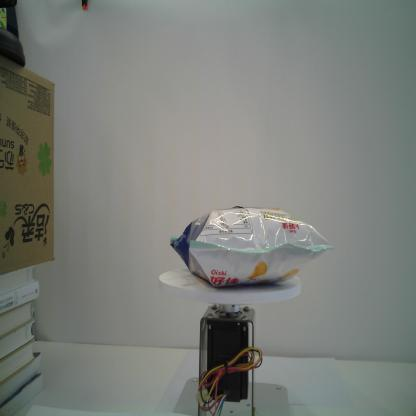Puffed Food: (169, 204, 335, 290)
